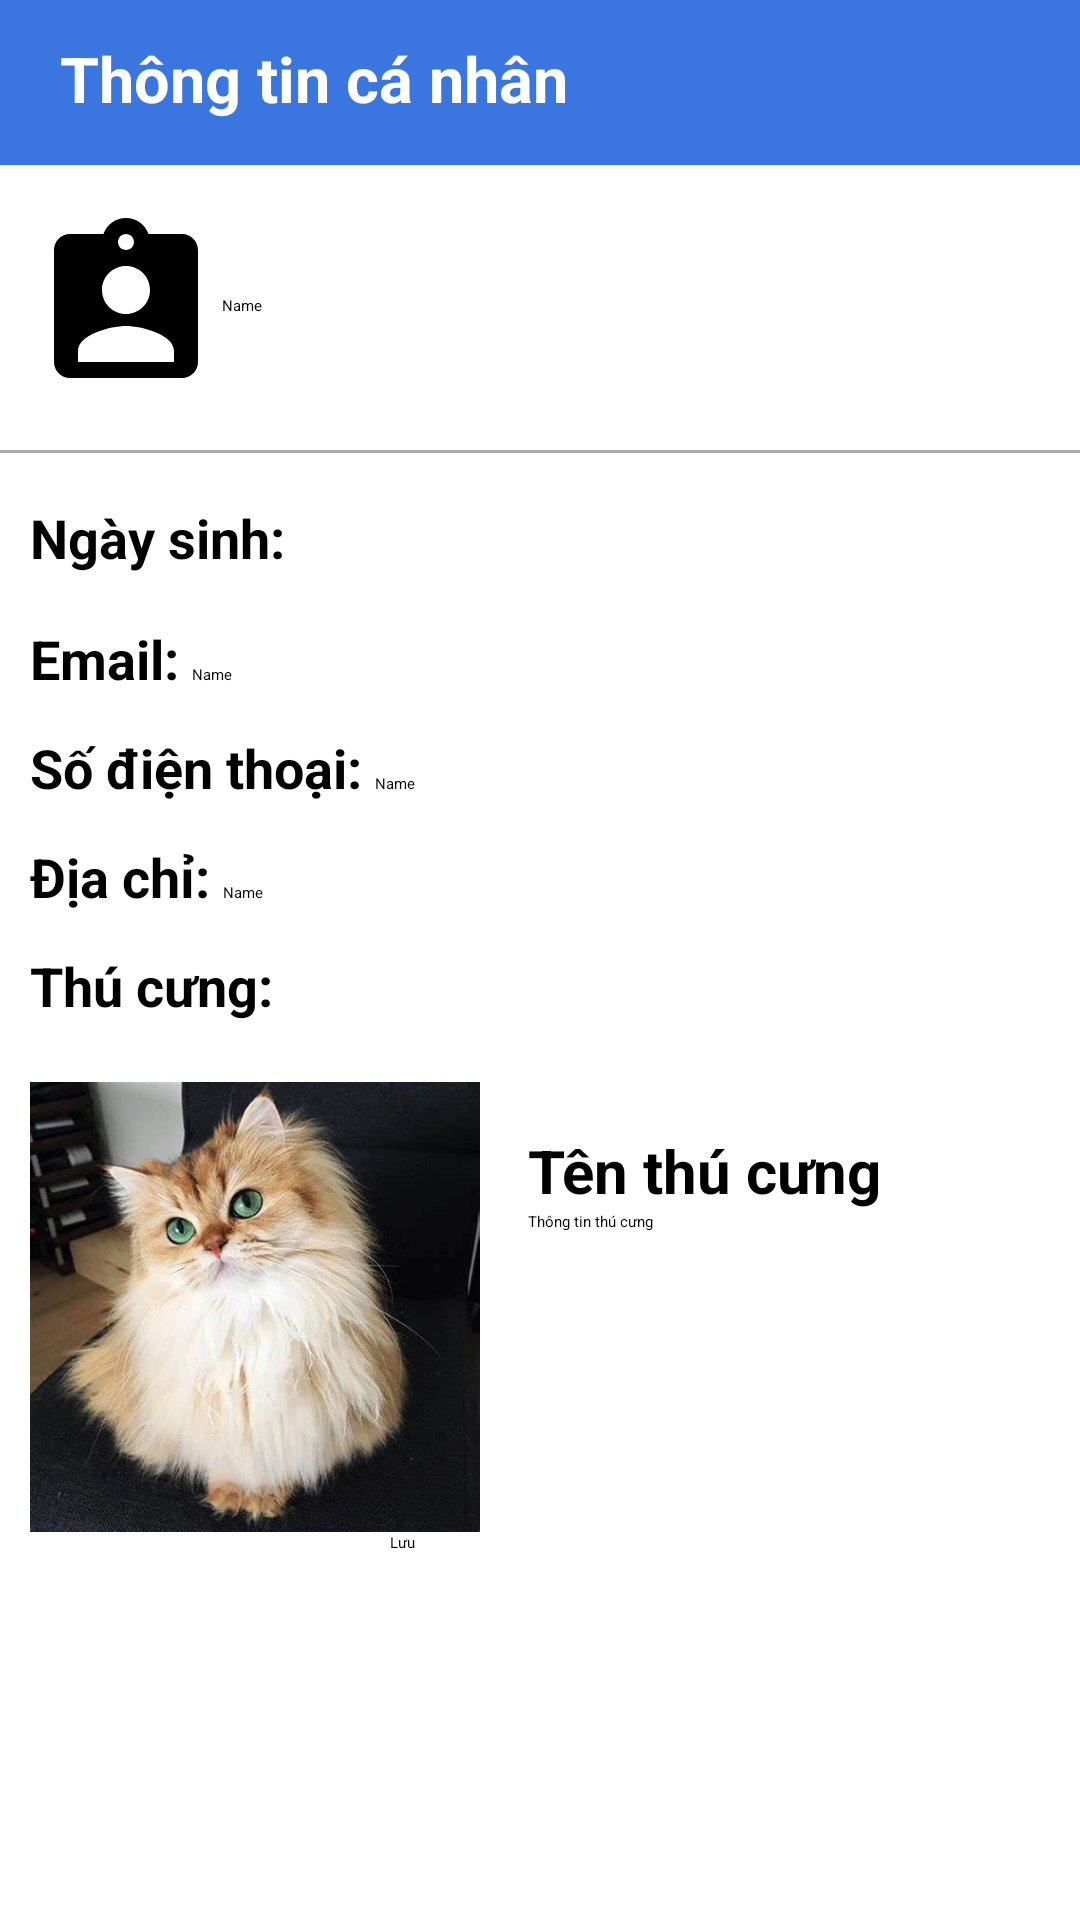

Icon click points for this 1080w x 1920h phone screenshot, format point (x, y):
profile: point (126, 298)
